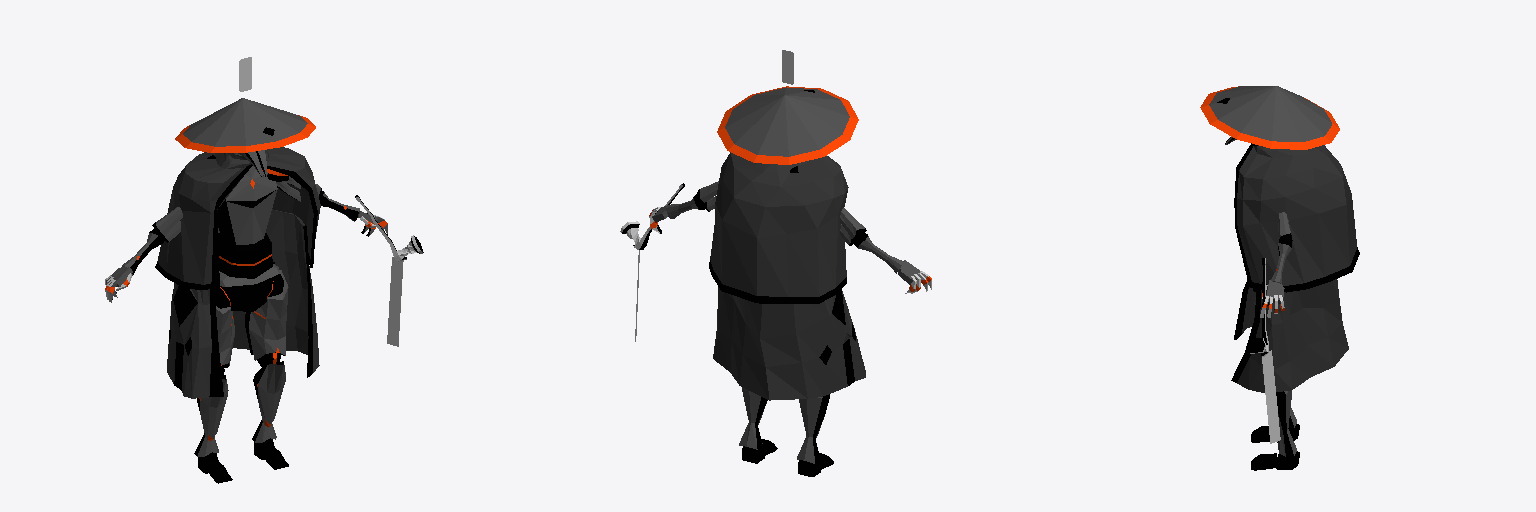
File: SAMIDALE_lowpoly.obj
3 renders of one model, left to right at view 1: azimuth 30°, elevation 25°; view 2: azimuth 150°, elevation 25°; view 3: azimuth 270°, elevation 25°, orthographic.
Parts seen in each view (by area): view 1: Cylinder.018_Cylinder.021, Cylinder_Cylinder.002, Circle, Cylinder.001, Cylinder.010_Cylinder.012, Cylinder.007_Cylinder.008, Cylinder.011_Cylinder.013, Cylinder.006_Cylinder.007, Cylinder.003_Cylinder.013, Plane, Cylinder.002_Cylinder.012, Cube.004_Cube.063 (+2 smaller); view 2: Cylinder_Cylinder.002, Cylinder.018_Cylinder.021, Circle, Cylinder.003_Cylinder.013, Cylinder.011_Cylinder.013, Cube.005_Cube.064, Cube.004_Cube.063, Cube.003_Cube.006; view 3: Cylinder_Cylinder.002, Cylinder.018_Cylinder.021, Circle, Plane, Cylinder.011_Cylinder.013, Cube.003_Cube.006.
Boxes of the visible parts, box(x1,y1,x2,y2) form: Cylinder.018_Cylinder.021: box(167, 209, 319, 398); Cylinder_Cylinder.002: box(155, 147, 320, 289); Circle: box(175, 98, 315, 152); Cylinder.001: box(217, 166, 277, 244); Cylinder.010_Cylinder.012: box(245, 262, 288, 360); Cylinder.007_Cylinder.008: box(218, 233, 272, 278); Cylinder.011_Cylinder.013: box(252, 361, 285, 442); Cylinder.006_Cylinder.007: box(219, 264, 279, 311); Cylinder.003_Cylinder.013: box(194, 375, 228, 456); Plane: box(387, 257, 403, 346); Cylinder.002_Cylinder.012: box(216, 306, 234, 367); Cube.004_Cube.063: box(152, 207, 182, 242); Cylinder_Cylinder.002: box(709, 152, 848, 303); Cylinder.018_Cylinder.021: box(713, 287, 865, 400); Circle: box(717, 86, 858, 164); Cylinder.003_Cylinder.013: box(797, 394, 829, 463); Cylinder.011_Cylinder.013: box(739, 387, 767, 449); Cube.005_Cube.064: box(851, 233, 903, 273); Cube.004_Cube.063: box(840, 208, 866, 245); Cube.003_Cube.006: box(620, 183, 684, 249); Cylinder_Cylinder.002: box(1234, 143, 1359, 292); Cylinder.018_Cylinder.021: box(1231, 279, 1348, 392); Circle: box(1200, 86, 1339, 149); Plane: box(1262, 350, 1280, 443); Cylinder.011_Cylinder.013: box(1276, 390, 1296, 456); Cube.003_Cube.006: box(1246, 258, 1268, 356).
Bounding box in the file's own units: 1.33 × 1.66 × 0.5881.